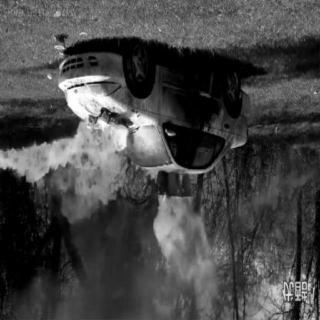Fire: (0, 118, 130, 246), (138, 159, 200, 219)
